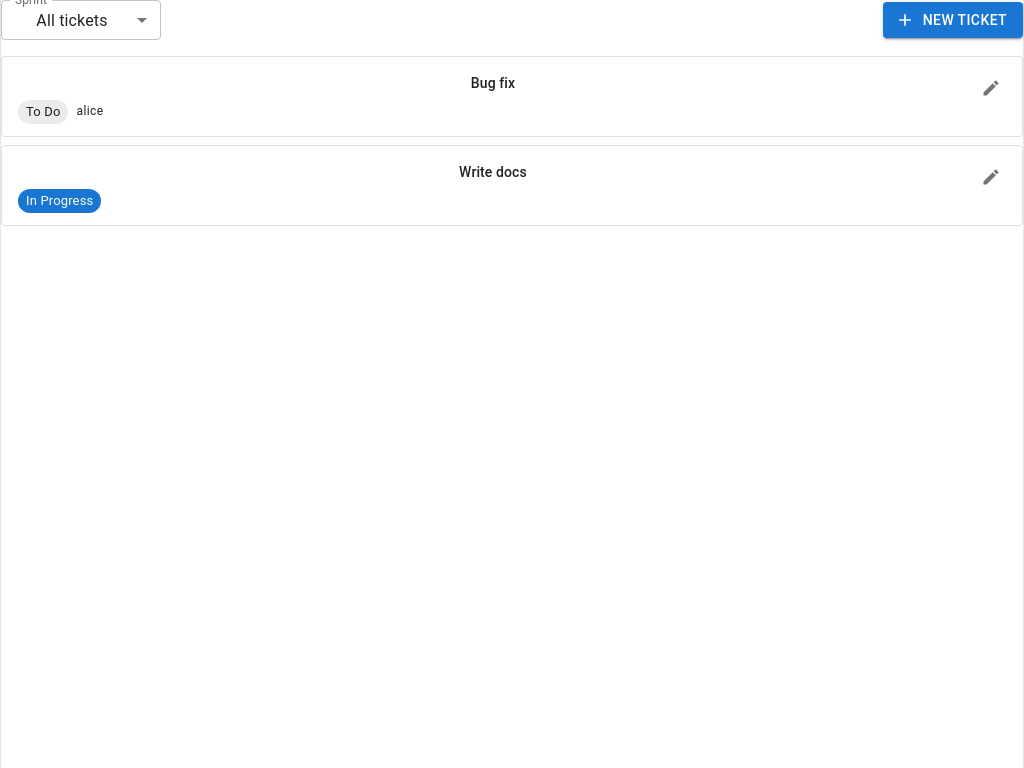
Test case: TicketListPanel › opens the create form when "New ticket" is clicked
Click the button "New ticket" at (953, 20), box [883,2,1023,38]
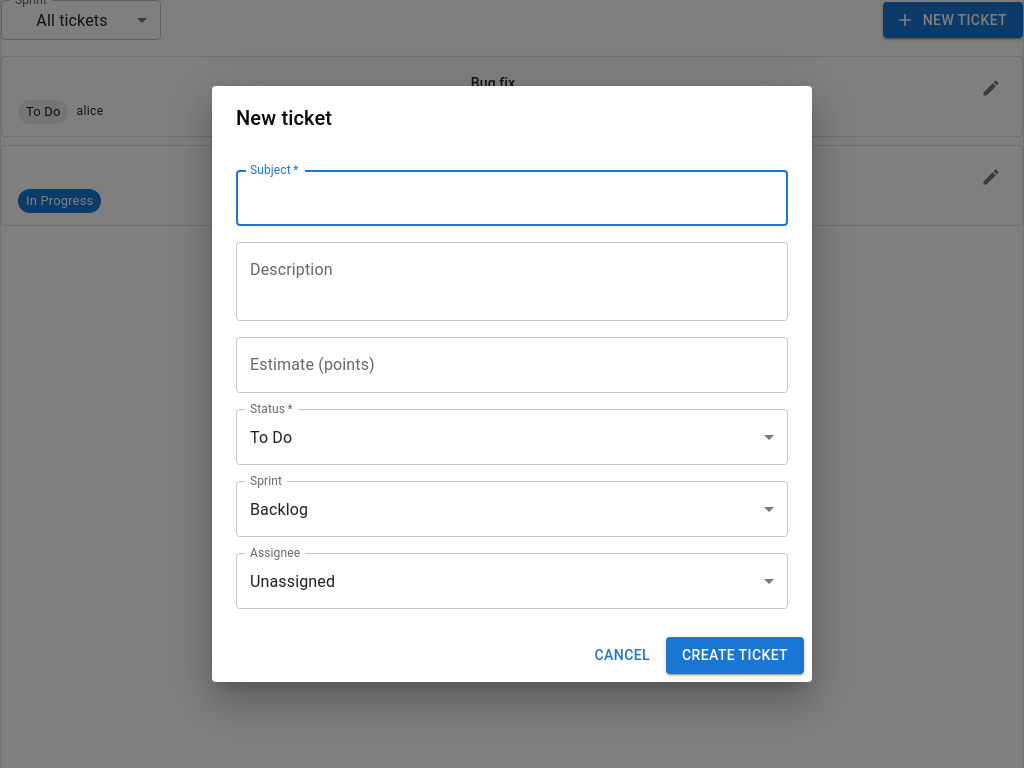
Result: the button "Create ticket" is shown at [666,637,804,674]
